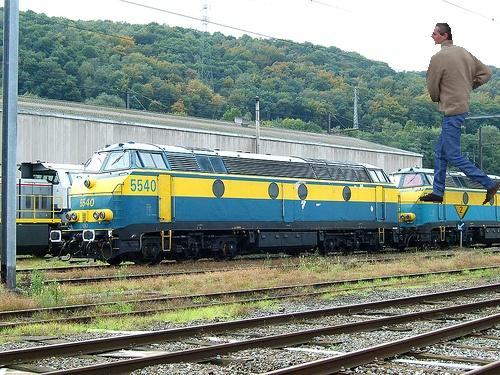tampered: (420, 24, 500, 205)
